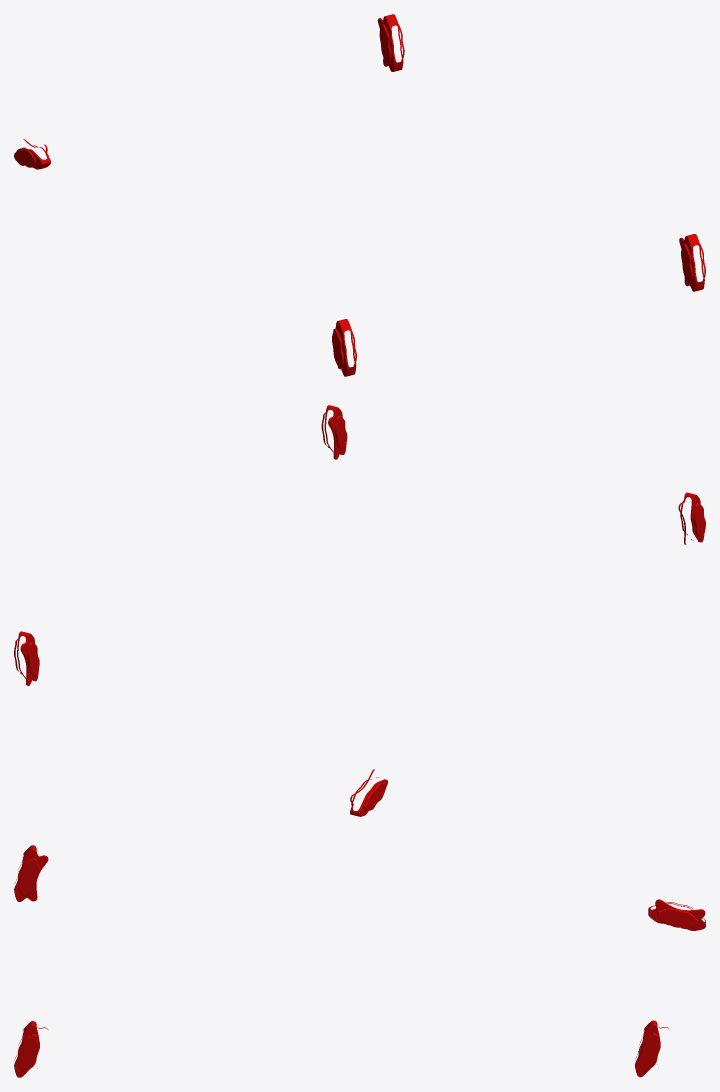
Rendered from Calipers_Red.glb.
3 views of the same model, one above another, from view 1: azimuth 30°, elevation 25°; view 2: azimuth 150°, elevation 25°; view 3: azimuth 270°, elevation 25° (orthographic). The views are drawn at different scales.
Visible parts, largest first — view 1: WheelRearRBrakePad, WheelFrontRBrakePad, WheelRearLBrakePad, WheelFrontLBrakePad; view 2: WheelRearRBrakePad, WheelFrontRBrakePad, WheelRearLBrakePad, WheelFrontLBrakePad; view 3: WheelFrontLBrakePad, WheelRearLBrakePad, WheelFrontRBrakePad, WheelRearRBrakePad.
Boxes of the visible parts, x1,y1,x2,y2 form: WheelRearRBrakePad: (679,234,705,291); WheelFrontRBrakePad: (377,14,404,71); WheelRearLBrakePad: (332,319,356,376); WheelFrontLBrakePad: (14,139,50,169); WheelRearRBrakePad: (321,405,347,459); WheelFrontRBrakePad: (14,631,39,685); WheelRearLBrakePad: (678,492,705,544); WheelFrontLBrakePad: (350,769,387,816); WheelFrontLBrakePad: (648,899,705,930); WheelRearLBrakePad: (14,845,48,901); WheelFrontRBrakePad: (635,1020,668,1077); WheelRearRBrakePad: (14,1021,47,1077).
Size of the model in its own units: 1.96 by 0.4025 by 3.12.
